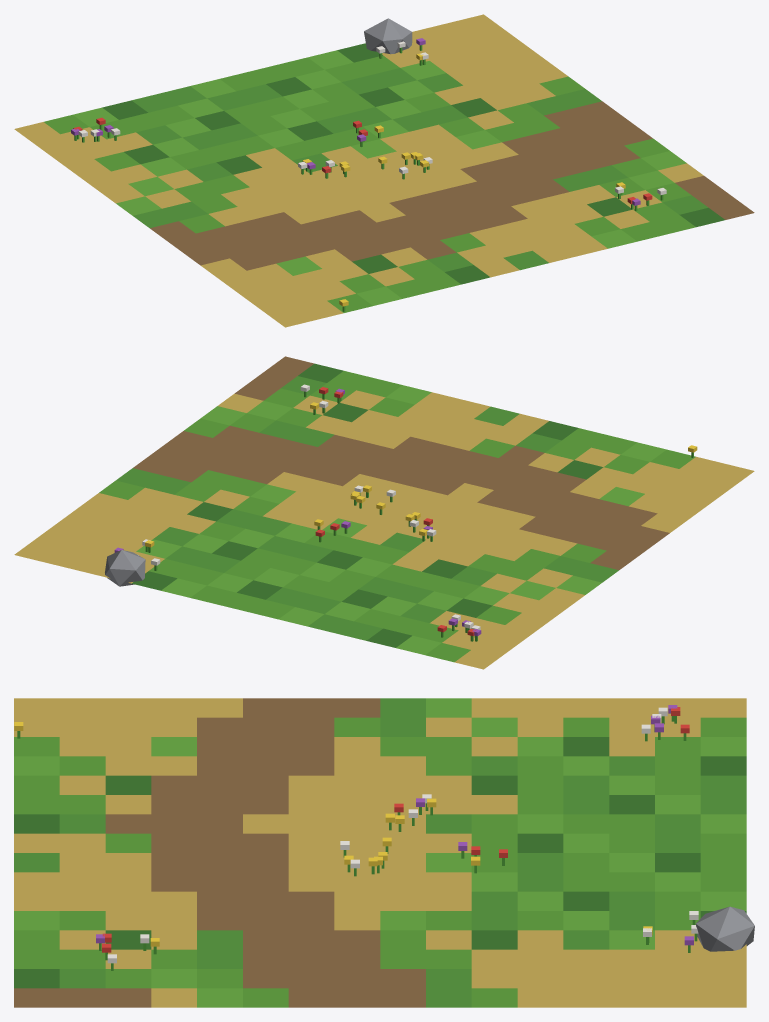
File: chunk_1_12.glb
3 views of the same model, one above another, from view 1: azimuth 30°, elevation 25°; view 2: azimuth 150°, elevation 25°; view 3: azimuth 270°, elevation 25° (orthographic). The views are drawn at different scales.
Visible parts, largest first — view 1: chunk_1_12; view 2: chunk_1_12; view 3: chunk_1_12.
Boxes of the visible parts, <box> form: chunk_1_12: <box>14,14,754,327</box>; chunk_1_12: <box>14,356,754,669</box>; chunk_1_12: <box>14,698,754,1007</box>.
Bounding box in the file's own units: 16 × 1.25 × 16.18.
